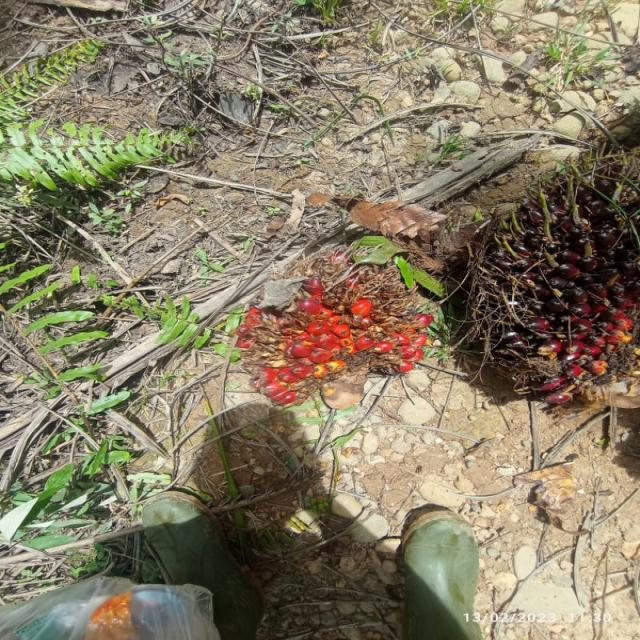fraksi 00: (475, 155, 640, 430)
fraksi 4: (219, 206, 450, 417)
